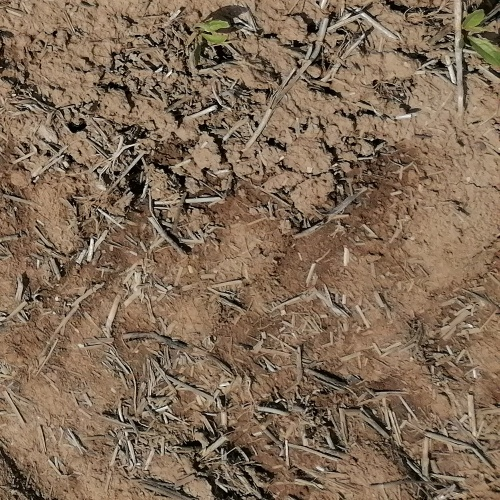beet: (464, 9, 500, 72), (189, 21, 231, 48)
